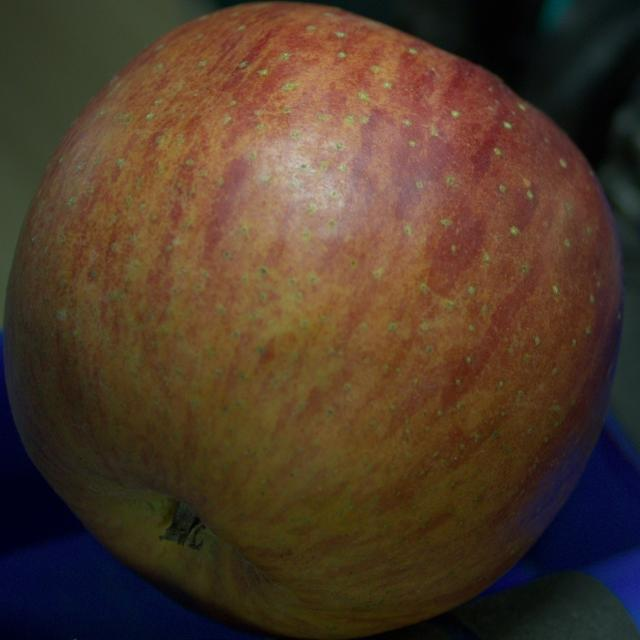apple: (4, 2, 622, 639)
